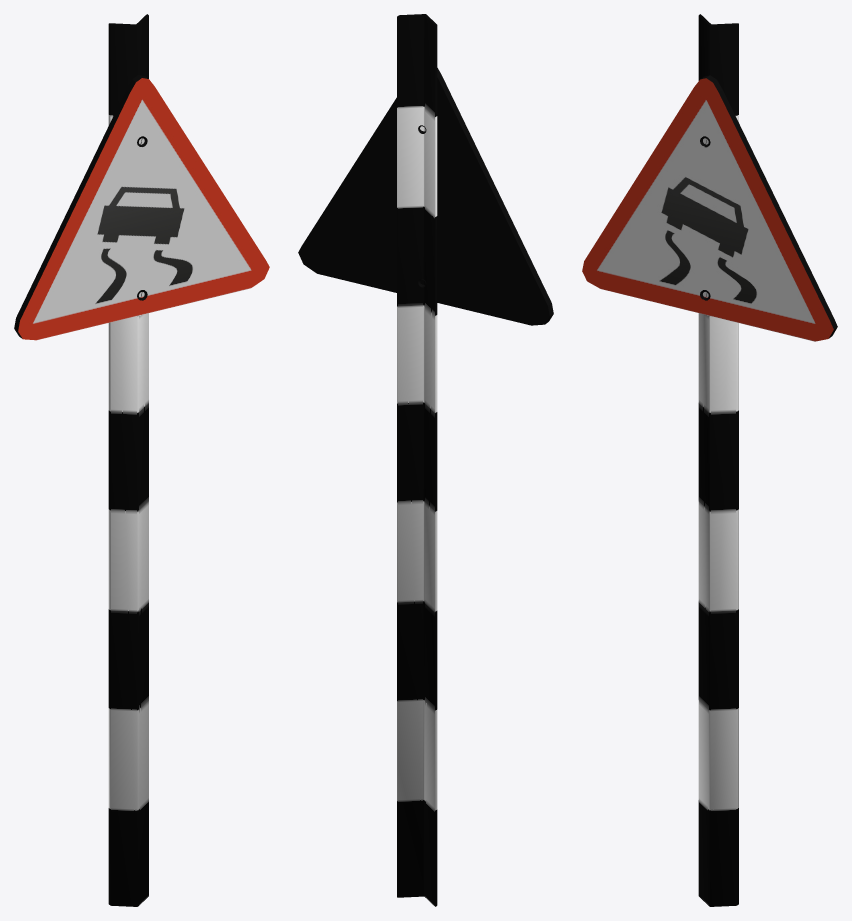
Rendered from Sign 1.obj.
3 renders of one model, left to right at view 1: azimuth 30°, elevation 25°; view 2: azimuth 150°, elevation 25°; view 3: azimuth 330°, elevation 25°, orthographic.
Parts seen in each view (by area): view 1: road_signs_rules__1, road_signs_rules_color_09; view 2: road_signs_rules_color_09, road_signs_rules__1; view 3: road_signs_rules__1, road_signs_rules_color_09.
Part boxes in pixels (x1,y1,x2,y2): road_signs_rules__1: (14,75,269,340); road_signs_rules_color_09: (108,14,148,906); road_signs_rules_color_09: (397,14,437,906); road_signs_rules__1: (298,68,553,325); road_signs_rules__1: (582,75,837,341); road_signs_rules_color_09: (698,14,738,906).
Bounding box in the file's own units: 22.59 × 75.57 × 2.33.
